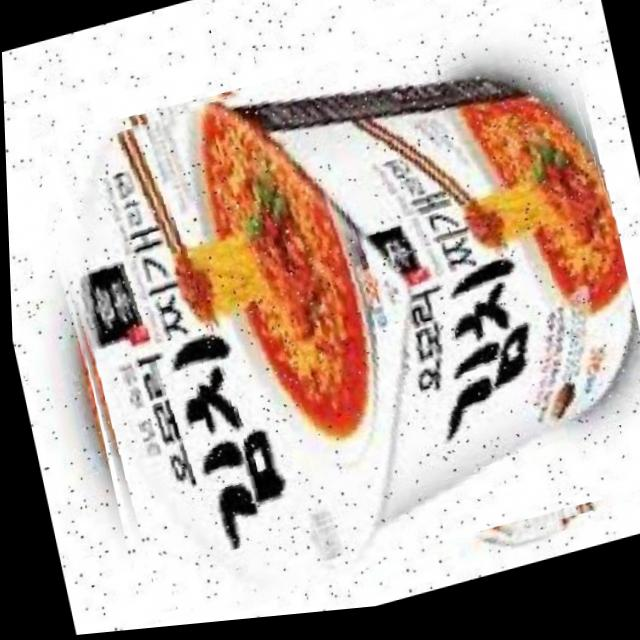Miscellaneous: (24, 0, 640, 638)
